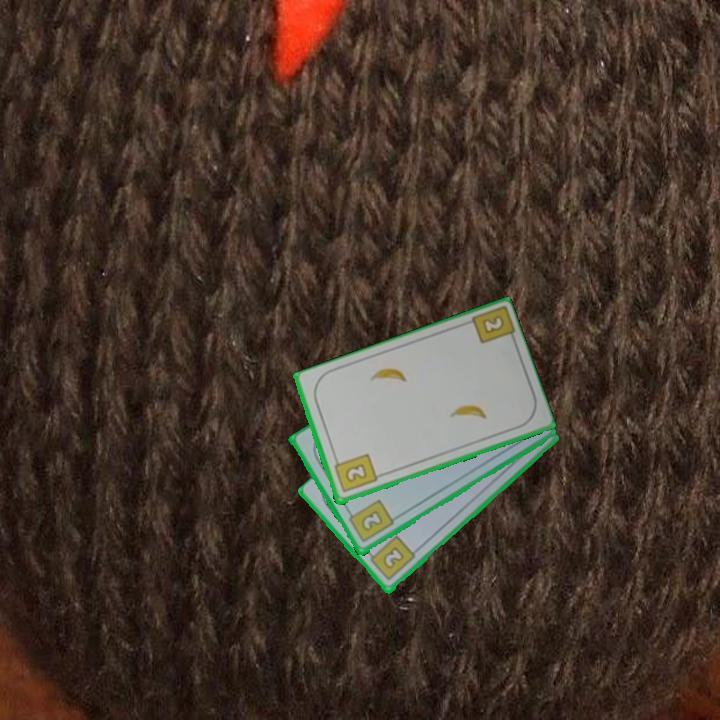2b: (364, 532, 418, 584), (343, 496, 396, 545), (330, 450, 380, 496), (478, 312, 507, 337)
